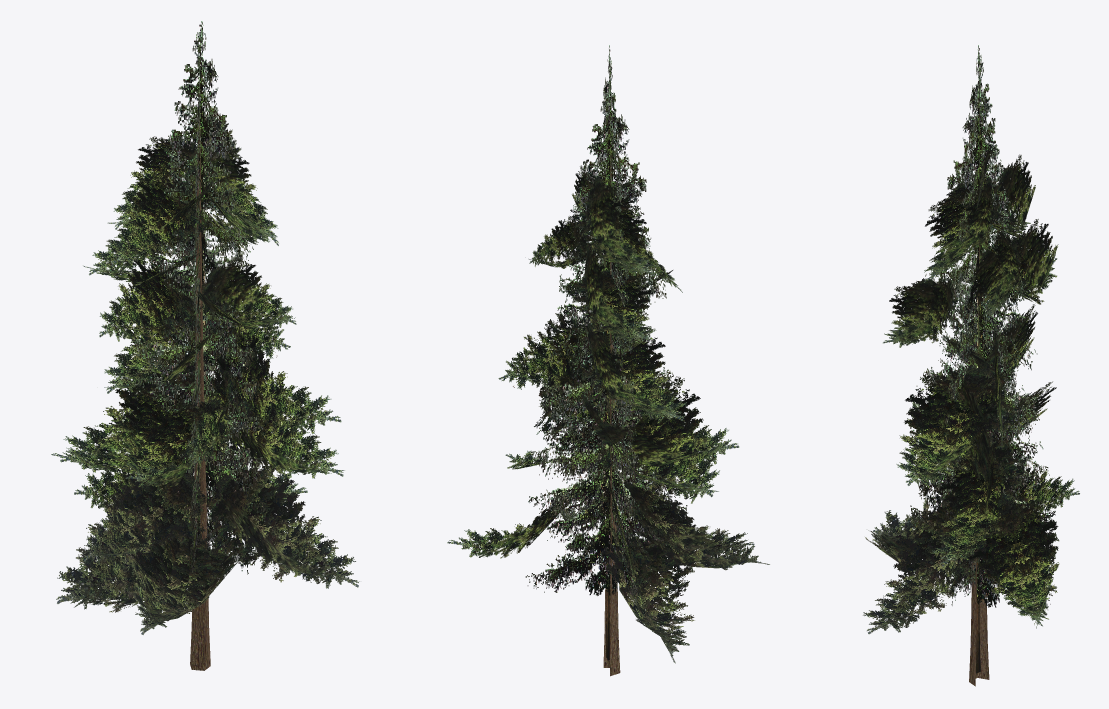
File: stage-sequ-p2-339.glb
3 views of the same model, side by side, from view 1: azimuth 30°, elevation 25°; view 2: azimuth 150°, elevation 25°; view 3: azimuth 270°, elevation 25° (orthographic). The views are drawn at different scales.
Bounding box in the file's own units: 33.98 × 67.42 × 26.1.
4 materials, 4 textured.
